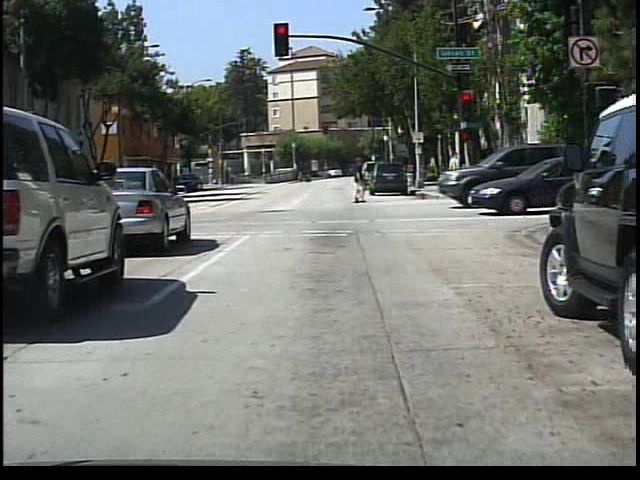person: (348, 157, 373, 207), (448, 150, 466, 178)
